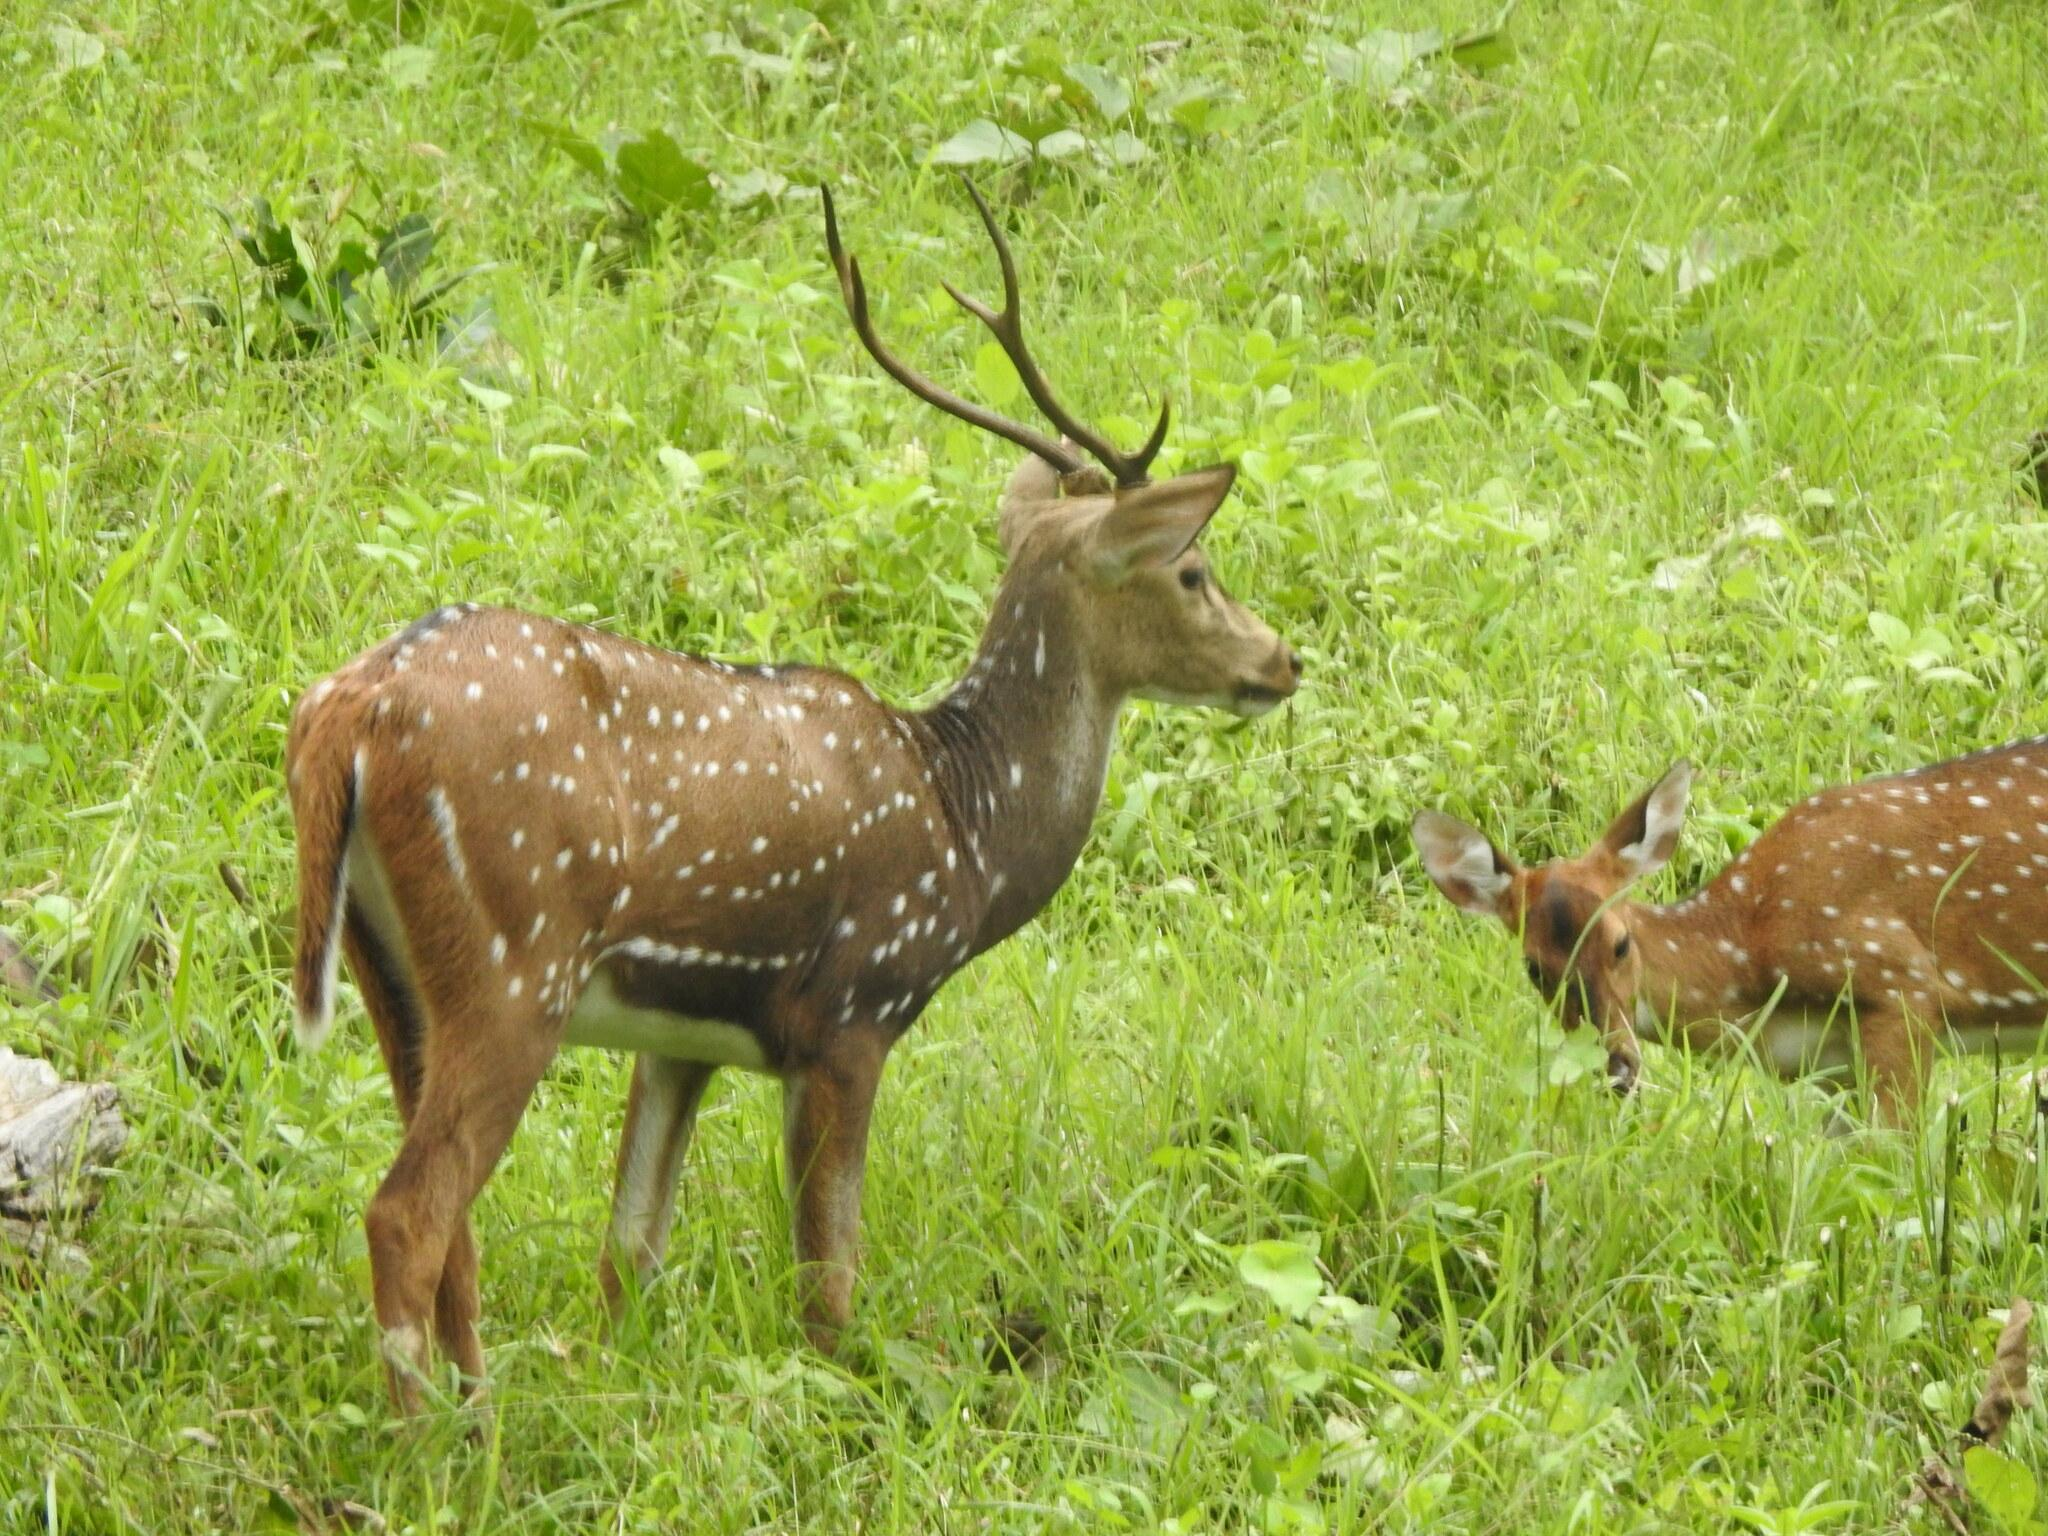Deer: (287, 177, 1302, 1400), (1412, 737, 2047, 1125)
